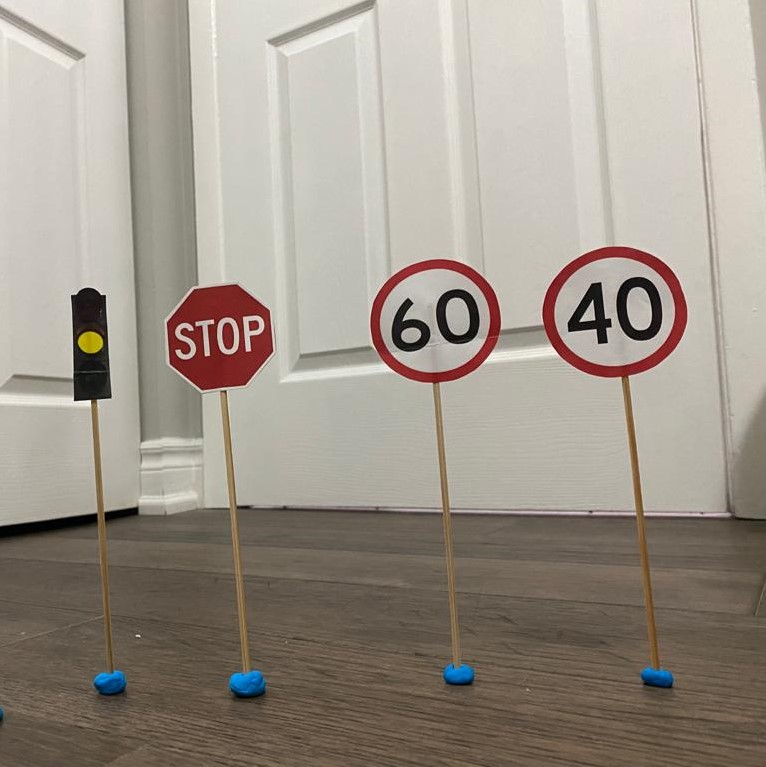Speed Limit 40: (541, 246, 688, 379)
Speed Limit 60: (369, 256, 504, 384)
Stop Sign: (161, 281, 283, 402)
